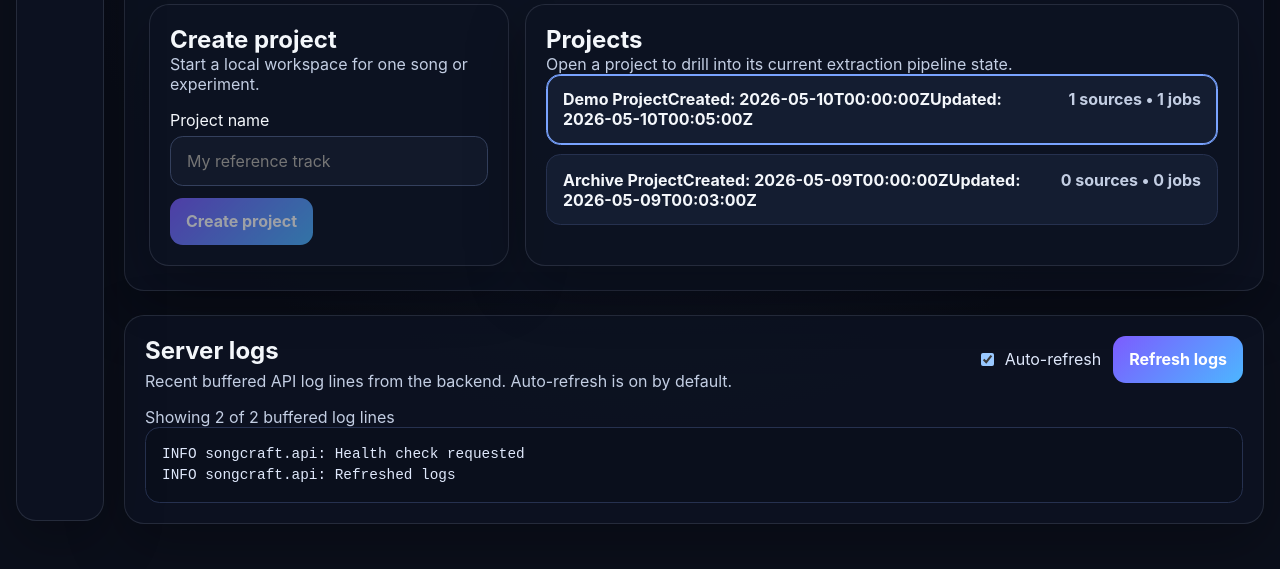
Test: App › offers source status transitions and updates the source after ingest completes
Click the button with aria-label "Open project Demo Project" at point(882, 109), box 546,74 -> 1218,145
(page scrolled)
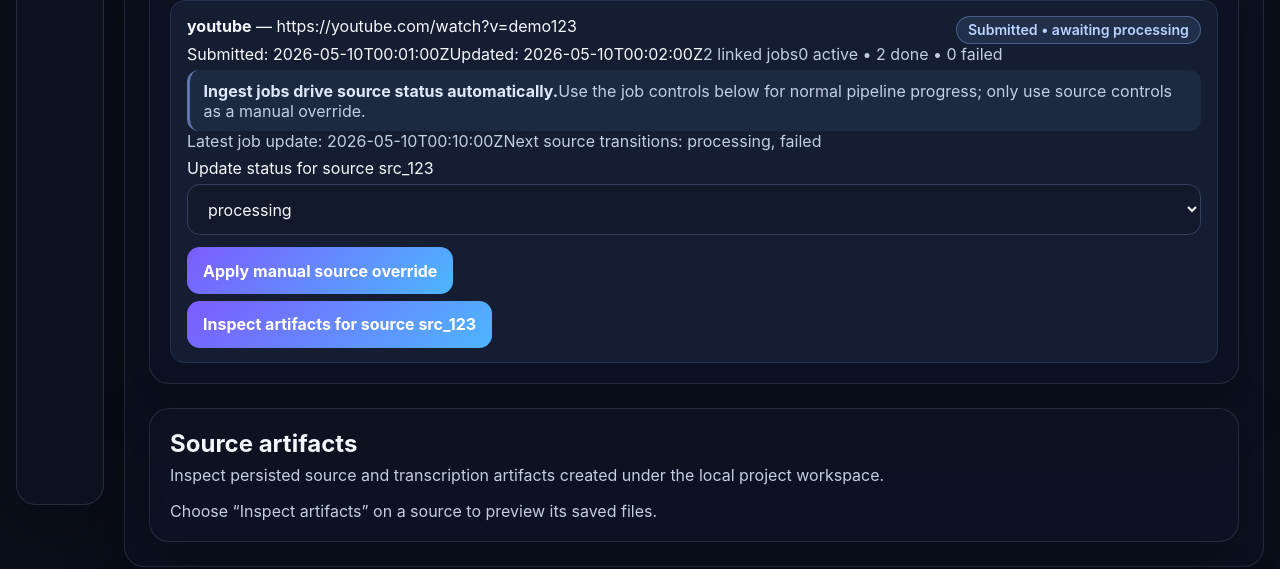
Select "processing" in the dropdown labelled "Update status for source src_123" at point(694, 210), box 187,184 -> 1201,235
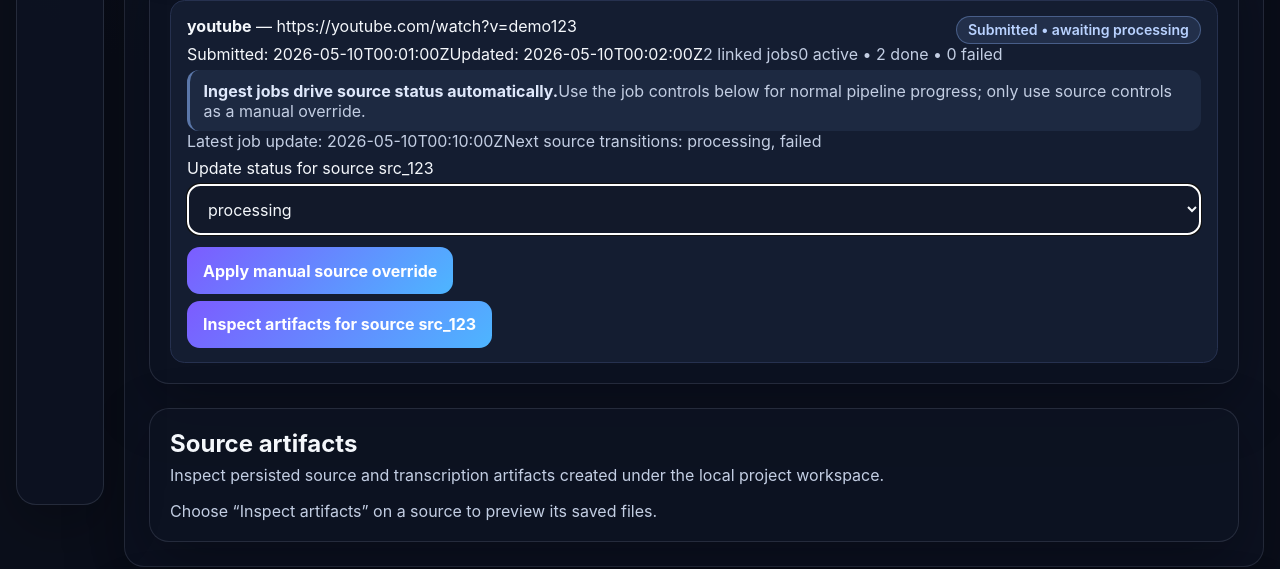
Click the button "Apply manual source override" at point(320, 271), box 187,247 -> 453,294
(page scrolled)
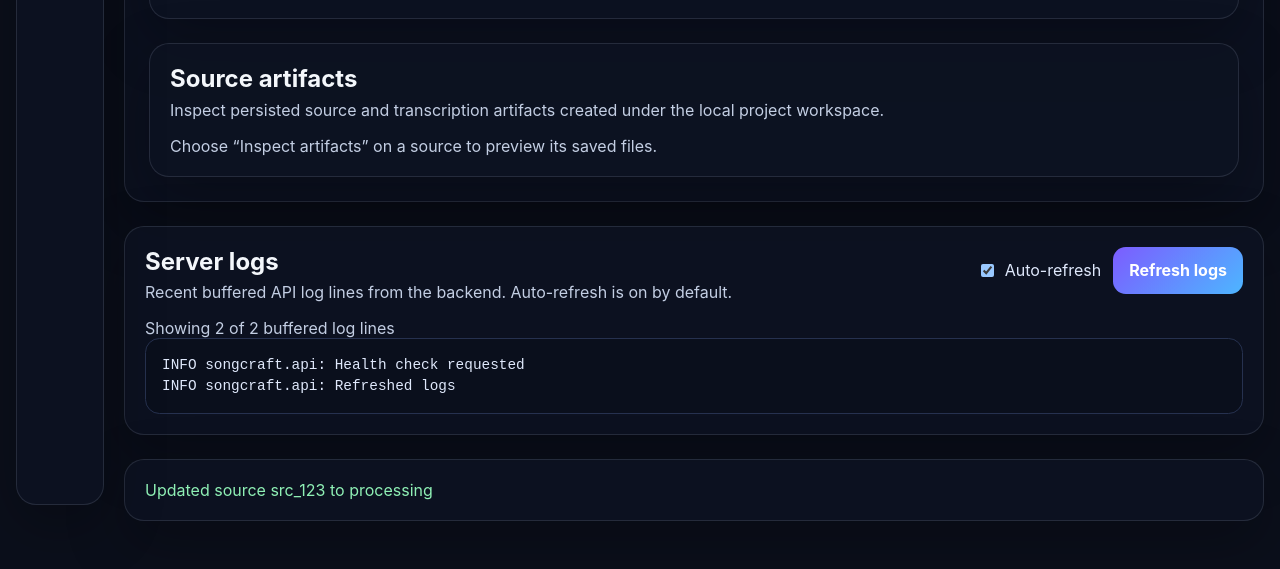
Expected: the text "Updated source src_123 to processing" is shown, 145,480 -> 433,500
